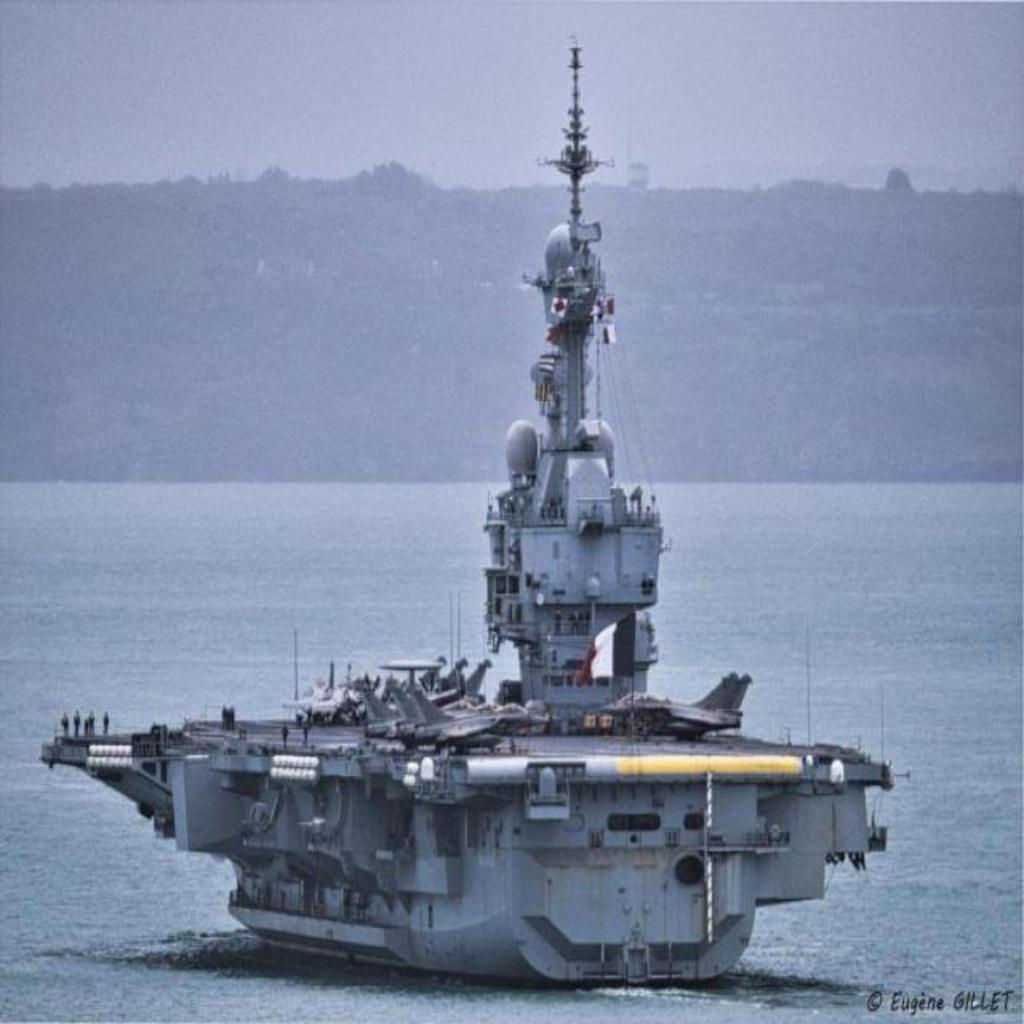Warship: (38, 37, 910, 989)
